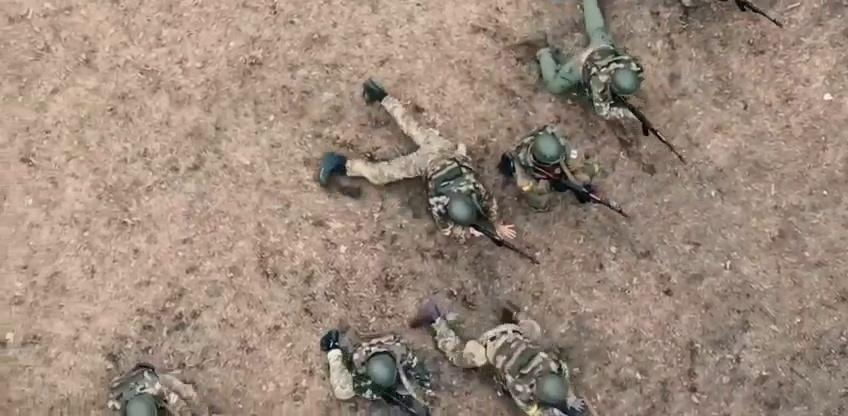person: (315, 76, 542, 265), (536, 0, 690, 166), (408, 295, 584, 416), (500, 124, 632, 221), (321, 326, 437, 416), (97, 355, 210, 416)
